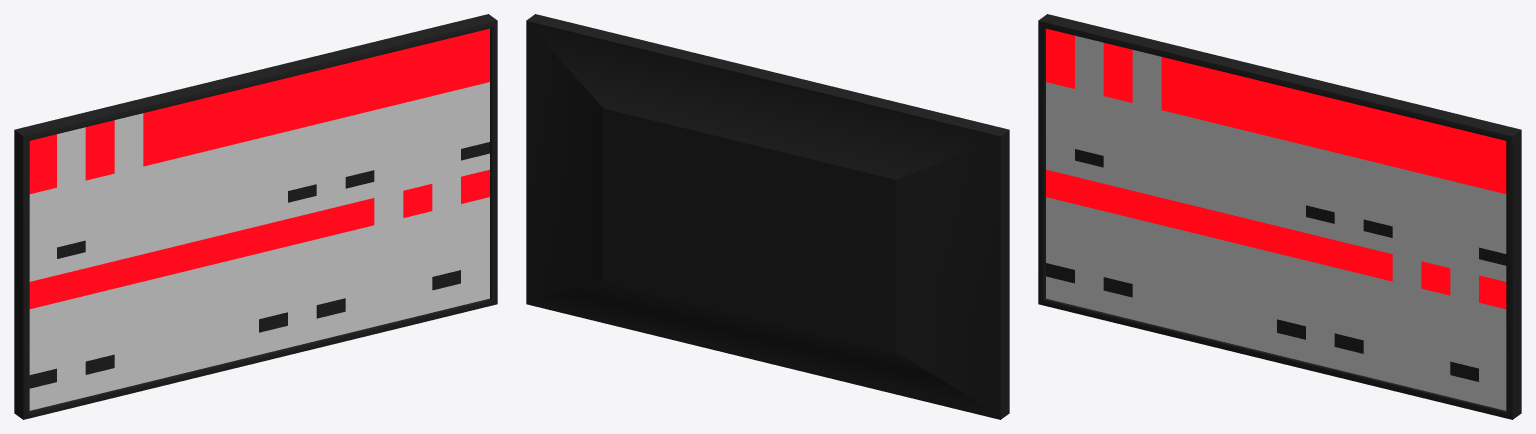
The model's file is MenuTVs.fbx.
The picture shows the model from 3 angles, left to right: view 1: azimuth 30°, elevation 25°; view 2: azimuth 150°, elevation 25°; view 3: azimuth 330°, elevation 25°; orthographic projection.
Visible parts, largest first — view 1: Tv; view 2: Tv; view 3: Tv.
Boxes of the visible parts, x1,y1,x2,y2 form: Tv: (14, 14, 497, 419); Tv: (526, 14, 1009, 419); Tv: (1038, 14, 1521, 419).
Bounding box in the file's own units: 224 × 128 × 19.
